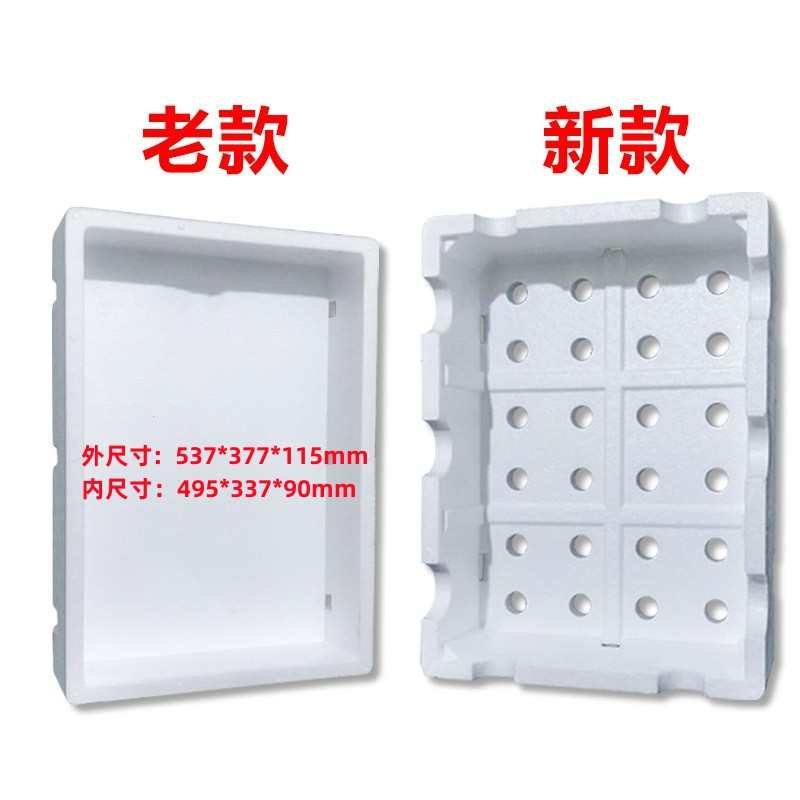Boxes: (422, 195, 770, 701), (53, 209, 380, 704)
